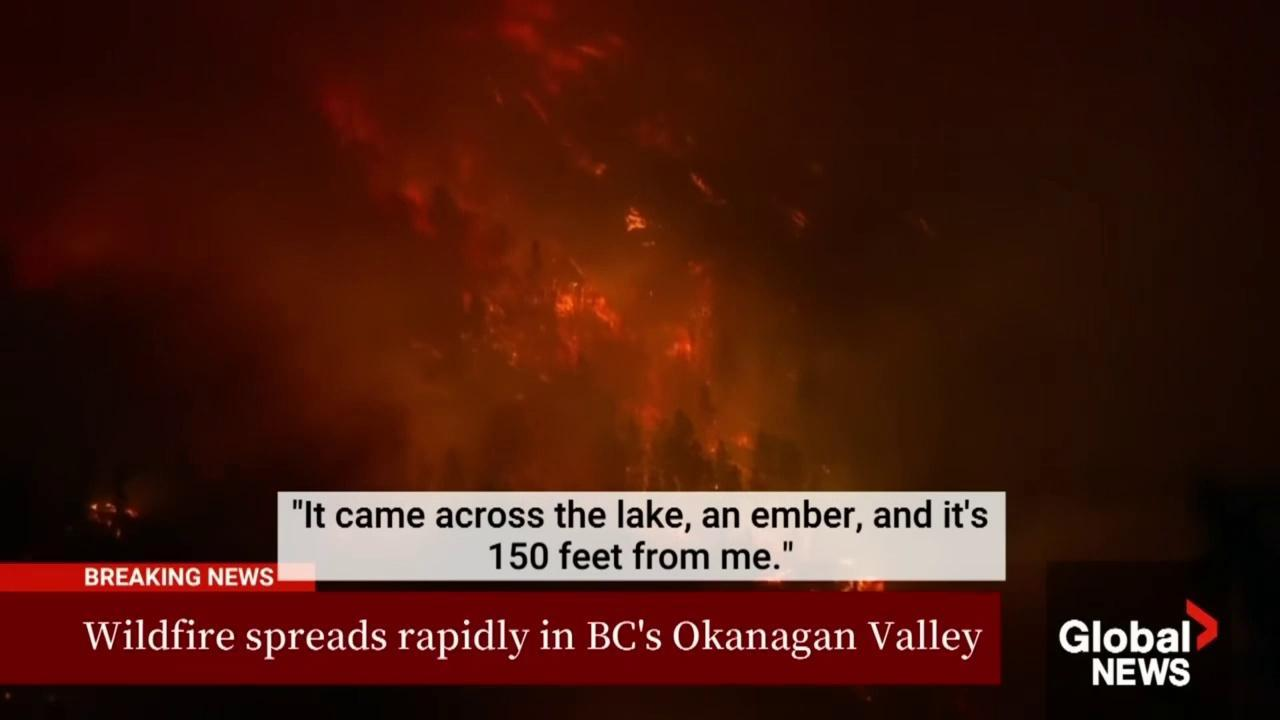fire: (631, 254, 718, 485), (480, 4, 631, 121), (543, 276, 622, 365), (400, 174, 448, 246), (86, 500, 118, 532), (688, 168, 716, 198), (585, 158, 611, 184), (624, 205, 648, 232), (730, 432, 757, 450), (790, 208, 808, 231), (124, 506, 142, 519)
smoke: (7, 3, 1280, 494)
